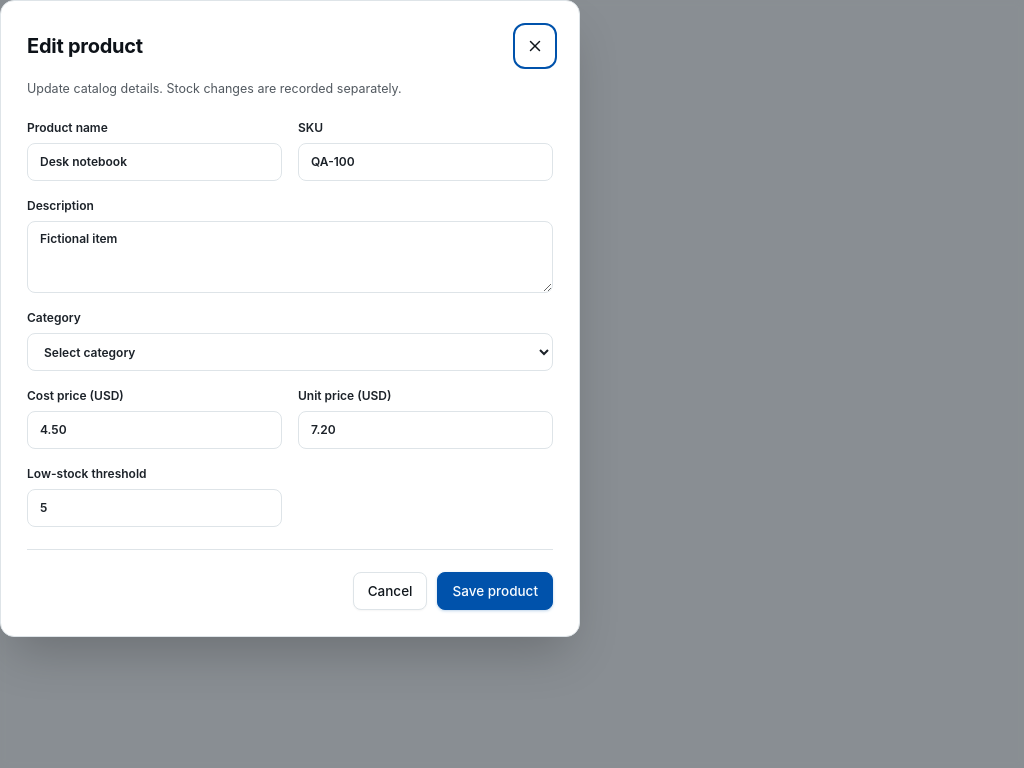
API conflicts are visible and keep product form open
The width and height of the screenshot is (1024, 768).
What coordinates should you click on to do the following:
click the button "Save product"
I would click on:
 (495, 591)
Its box is [438, 572, 553, 610].
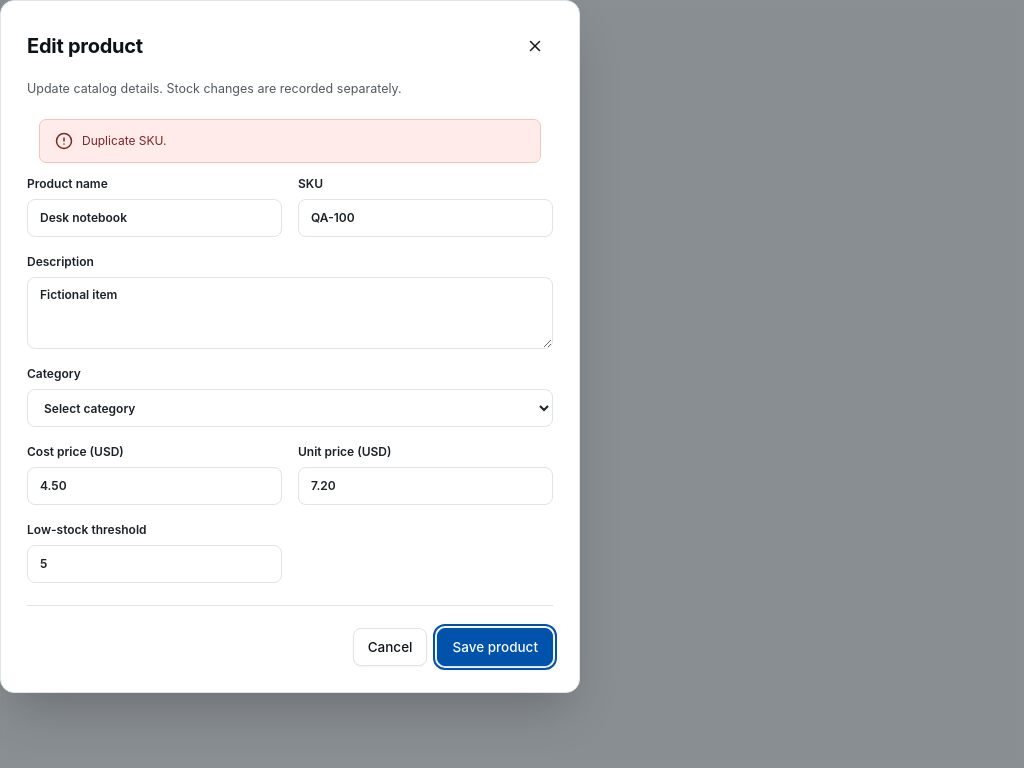
Check: the message reads "Duplicate SKU.", box [82, 133, 167, 148]
